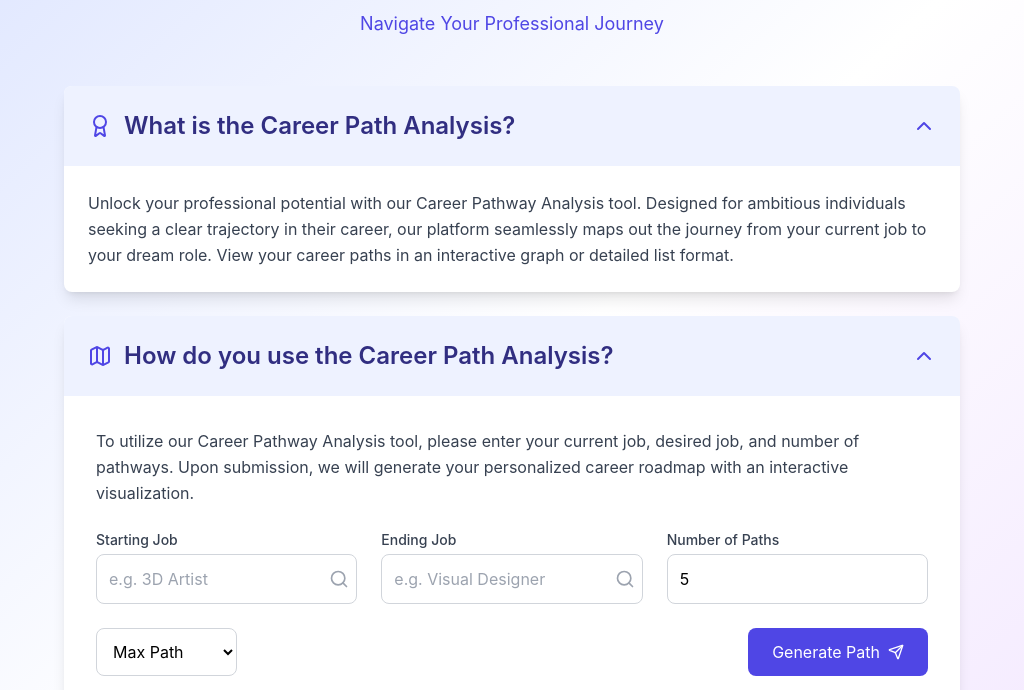
Test: CareerPathAnalysis › validates required fields
The image size is (1024, 690).
Click the button "Generate Path": x=838, y=652 [748,628,928,676]
(page scrolled)
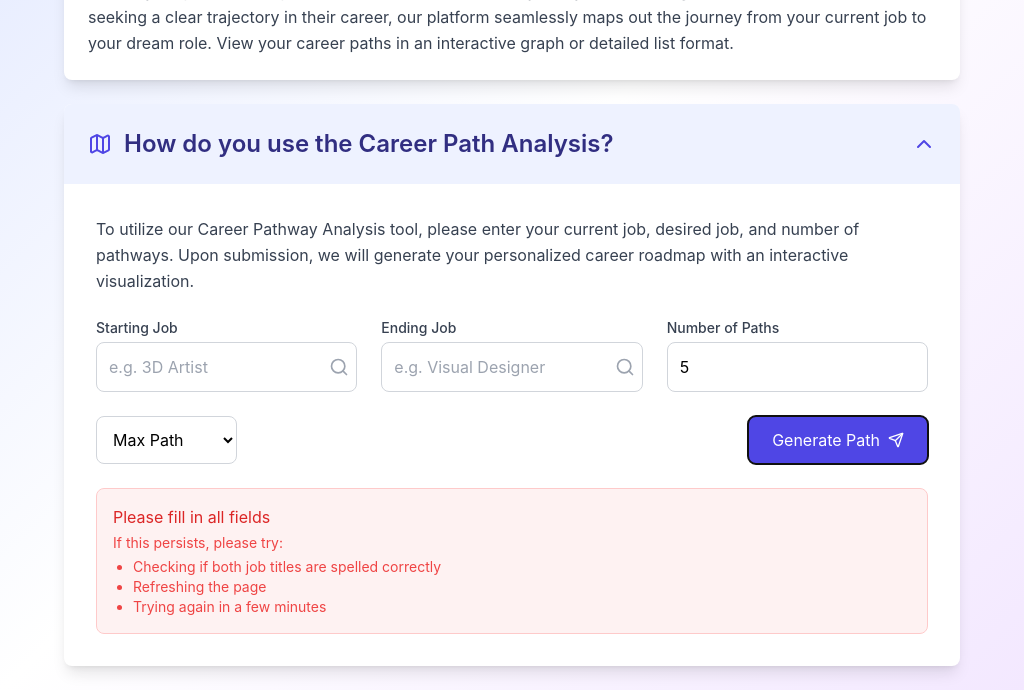
Now the text "Please fill in all fields" is shown, box [113,507,270,527]
